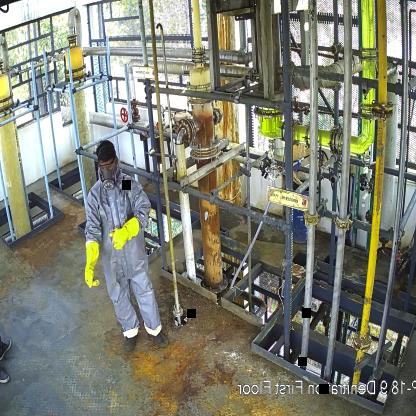goggles: (97, 160, 115, 170)
mask: (100, 168, 118, 191)
